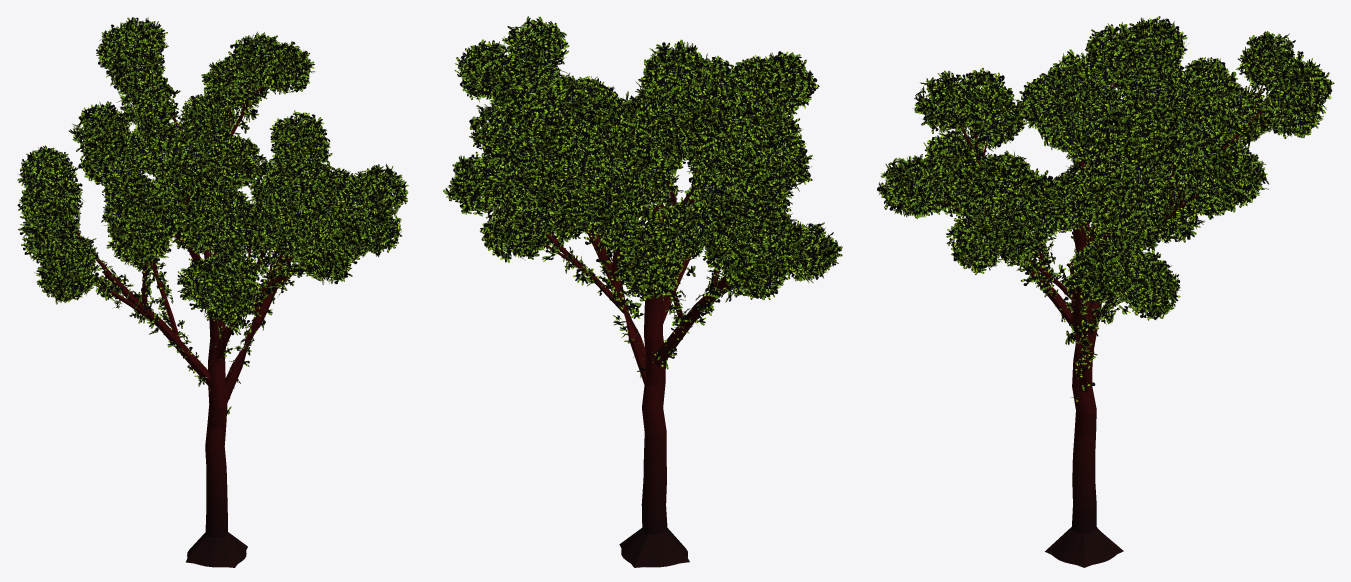
File: emergent_fig_v03.glb
The picture shows the model from 3 angles, left to right: view 1: azimuth 30°, elevation 25°; view 2: azimuth 150°, elevation 25°; view 3: azimuth 270°, elevation 25°; orthographic projection. The views are drawn at different scales.
Visible parts, largest first — view 1: emergent_fig_v03; view 2: emergent_fig_v03; view 3: emergent_fig_v03.
Part boxes in pixels (x1,y1,x2,y2): emergent_fig_v03: [17, 17, 408, 567]; emergent_fig_v03: [443, 16, 842, 567]; emergent_fig_v03: [877, 16, 1334, 567].
Size of the model in its own units: 36.83 by 51.12 by 40.6.
2 materials, 2 textured.
